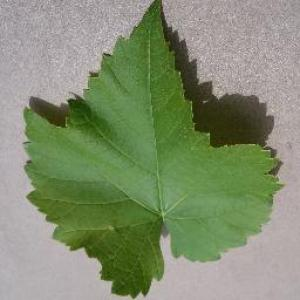Folha: (22, 0, 284, 300)
